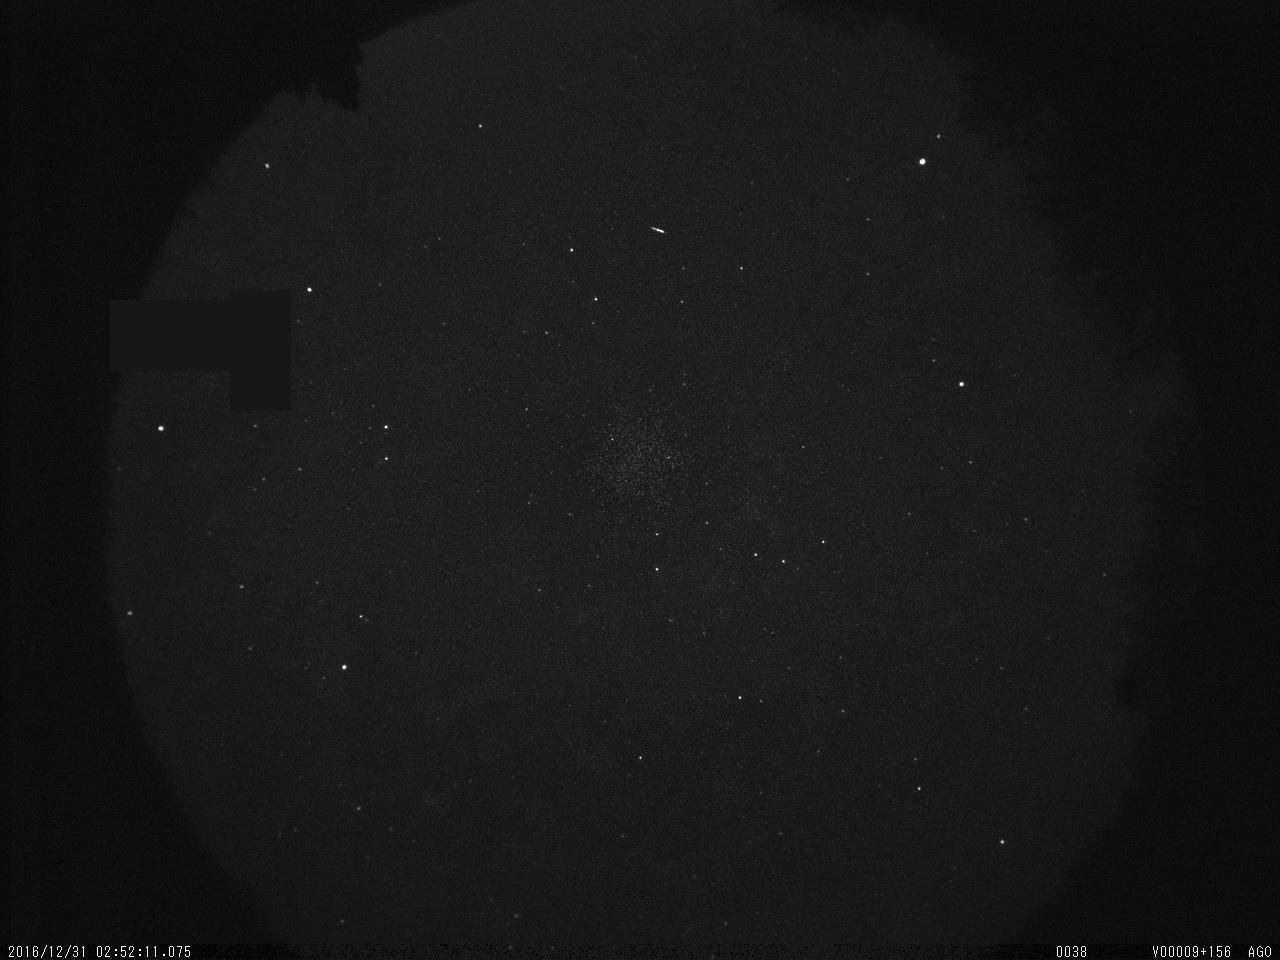Meteor: (641, 219, 673, 239)
